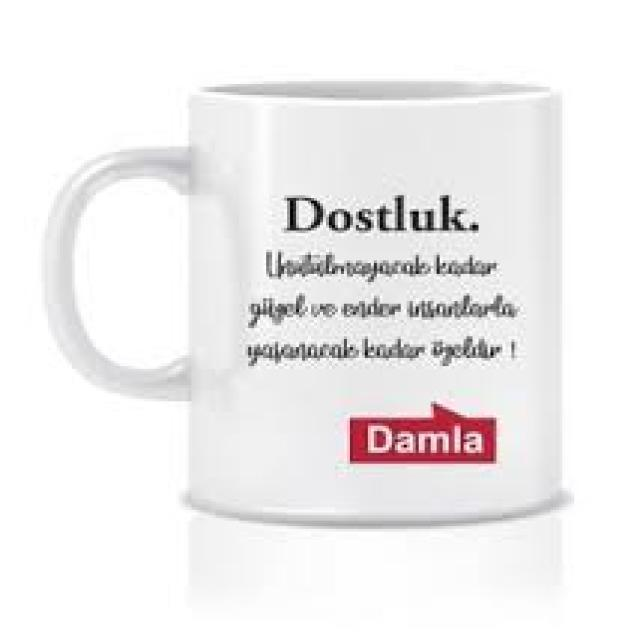taza: (38, 80, 566, 526)
